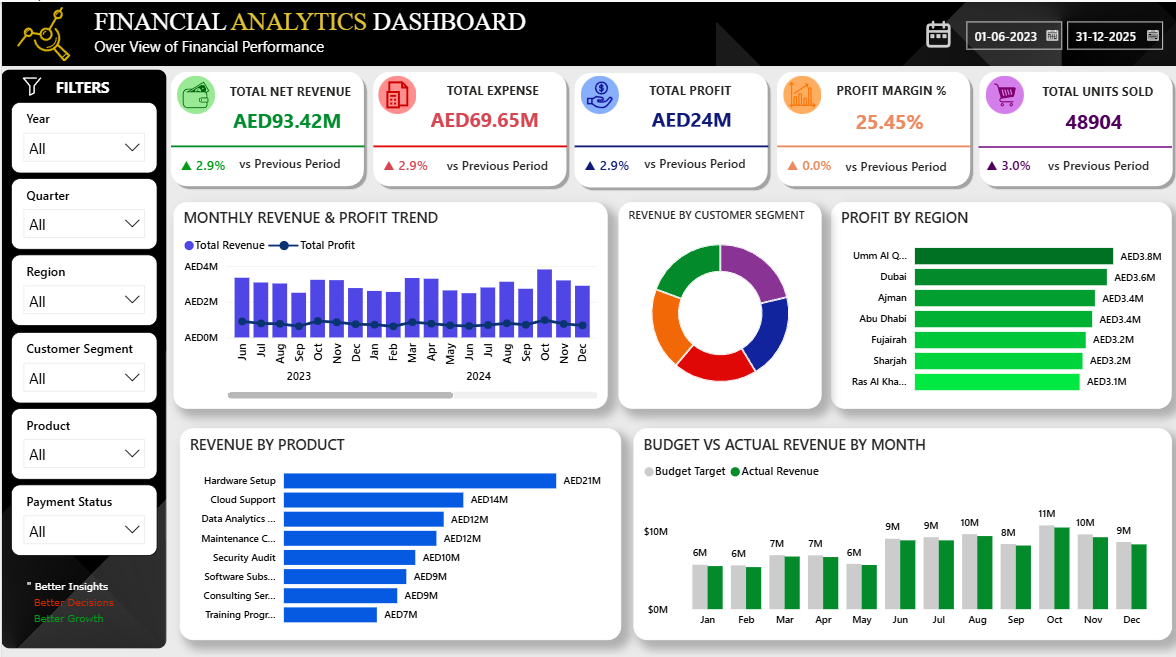

Layout of this report page (visuals, bound fields, positions):
{"tool":"powerbi","page":{"name":"Page 1","canvas":[1280,720],"ordinal":0},"visuals":[{"type":"group","id":"g1","title":"Group 1","box":[179.8,70.9,1099.3,135.7],"z":0},{"type":"shape","box":[179.8,70.9,220.1,134.5],"z":0,"group":"g1"},{"type":"shape","box":[399.9,70.9,220.1,134.5],"z":1000,"group":"g1"},{"type":"cardVisual","fields":{"Data":["Financial Data.Total Revenue"]},"box":[217.5,89.7,187.6,74.8],"z":1000},{"type":"image","box":[0,0,1280.3,70],"z":2000},{"type":"shape","box":[618.8,72.1,220.1,134.5],"z":2000,"group":"g1"},{"type":"textbox","box":[96.1,1.4,773.9,70],"z":3000},{"type":"shape","box":[839.2,70.9,220.1,134.5],"z":3000,"group":"g1"},{"type":"image","box":[11,5.5,71.4,59],"z":4000},{"type":"shape","box":[1059,70.9,220.1,134.5],"z":4000,"group":"g1"},{"type":"image","box":[189.5,80.7,46.5,41.6],"z":5000},{"type":"textbox","box":[236.5,65.2,156.3,54.4],"z":6000},{"type":"cardVisual","fields":{"Data":["Financial Data.Revenue Change Display"]},"box":[189.5,150.4,62.4,50.1],"z":7000},{"type":"textbox","box":[243.9,161.7,141.8,34.8],"z":8000},{"type":"image","box":[407.2,80.7,46.5,41.6],"z":9000},{"type":"image","box":[628.5,80.7,46.5,41.6],"z":10000},{"type":"image","box":[847.4,80.7,46.5,41.6],"z":11000},{"type":"image","box":[1068.8,80.7,46.5,41.6],"z":12000},{"type":"image","box":[0,73.4,179.8,629.8],"z":13000},{"type":"textbox","box":[456.7,63.9,156.3,54.4],"z":14000},{"type":"cardVisual","fields":{"Data":["Financial Data.Total Expense"]},"box":[432.2,88.3,187.6,75],"z":15000},{"type":"cardVisual","fields":{"Data":["Financial Data.Total Profit"]},"box":[657.8,88.3,186.2,74.8],"z":16000},{"type":"textbox","box":[671.4,63.9,156.3,54.4],"z":17000},{"type":"textbox","box":[890.2,63.9,156.3,55.7],"z":18000},{"type":"textbox","box":[1114.5,65.2,156.3,54.4],"z":19000},{"type":"cardVisual","fields":{"Data":["Financial Data.Profit Margin %"]},"box":[902.4,91.1,130.5,74.8],"z":20000},{"type":"cardVisual","fields":{"Data":["Financial Data.Total Units Sold"]},"box":[1113,91.1,150.9,75],"z":21000},{"type":"cardVisual","fields":{"Data":["Financial Data.Expense Change Display"]},"box":[409.3,150.5,62,50],"z":22000},{"type":"cardVisual","fields":{"Data":["Financial Data.Profit Change Display"]},"box":[628.5,150.4,62.4,50.1],"z":23000},{"type":"cardVisual","fields":{"Data":["Financial Data.Profit Margin Display"]},"box":[847.4,150.4,62.4,50.1],"z":24000},{"type":"cardVisual","fields":{"Data":["Financial Data.Units Change Display"]},"box":[1068.8,150.4,62.4,50.1],"z":25000},{"type":"textbox","box":[469.6,162.6,141.8,35.5],"z":26000},{"type":"textbox","box":[683.6,161.4,141.8,35.5],"z":27000},{"type":"textbox","box":[902.5,163.9,141.8,35.5],"z":28000},{"type":"textbox","box":[1122.6,162.6,141.8,35.5],"z":29000},{"type":"lineClusteredColumnComboChart","title":"MONTHLY REVENUE & PROFIT TREND","fields":{"Y2":["Financial Data.Total Profit"],"Y":["Financial Data.Total Revenue"],"Category":["Financial Data.Year","Financial Data.Month"]},"box":[188,216.8,472,225],"z":30000},{"type":"clusteredBarChart","title":"PROFIT BY REGION","fields":{"Y":["Financial Data.Total Profit"],"Category":["Financial Data.Region"]},"box":[902.9,216.8,370.5,225],"z":31000},{"type":"donutChart","title":"REVENUE BY CUSTOMER SEGMENT","fields":{"Category":["Financial Data.Customer_Segment"],"Y":["Financial Data.Total Revenue"]},"box":[671,216.8,220.9,225],"z":32000},{"type":"clusteredBarChart","title":"REVENUE BY PRODUCT","fields":{"Y":["Financial Data.Total Revenue"],"Category":["Financial Data.Product"]},"box":[194.9,463.8,480.3,230.5],"z":33000},{"type":"clusteredColumnChart","title":"BUDGET VS ACTUAL REVENUE BY MONTH","fields":{"Category":["Financial Data.Month"],"Y":["Sum(Financial Data.Budget_Target)","Financial Data.Total Revenue"]},"box":[687.5,463.8,585.9,230.5],"z":34000},{"type":"slicer","fields":{"Values":["Financial Data.Year"]},"box":[11,108.4,159.2,77.4],"z":35000},{"type":"slicer","fields":{"Values":["Financial Data.Quarter"]},"box":[11,191.7,159.2,77.4],"z":36000},{"type":"slicer","fields":{"Values":["Financial Data.Region"]},"box":[11,275,159.2,77.4],"z":37000},{"type":"slicer","fields":{"Values":["Financial Data.Customer_Segment"]},"box":[11,358.3,159.2,77.4],"z":38000},{"type":"slicer","fields":{"Values":["Financial Data.Product"]},"box":[11,441.7,159.2,77.4],"z":39000},{"type":"slicer","fields":{"Values":["Financial Data.Payment_Status"]},"box":[11,525,159.2,77.4],"z":40000},{"type":"image","box":[11,78.2,45,25],"z":41000},{"type":"textbox","box":[43.9,75.5,90.6,32.9],"z":42000},{"type":"slicer","title":"  Date","fields":{"Values":["Financial Data.Date"]},"box":[1037,10.9,243.3,50.3],"z":43000},{"type":"image","box":[1001.7,15,35.3,39.4],"z":44000},{"type":"textbox","box":[23.1,619.8,119.6,74.8],"z":45000},{"type":"shape","box":[184.8,142.7,210.7,28.5],"z":46000},{"type":"shape","box":[405,142.7,210.7,28.5],"z":47000},{"type":"shape","box":[623.8,142.7,210.7,28.5],"z":48000},{"type":"shape","box":[844,142.7,210.7,28.5],"z":49000},{"type":"shape","box":[1062.8,142.7,210.7,29.9],"z":50000}]}

Visuals, with their boxes in screenshot pixels (x1, y1, x2, y2), scaled from the page's 1280x720 canvas onto the 1176x657 screenshot:
"Group 1" group: (left=165, top=65, right=1175, bottom=189)
shape: (left=165, top=65, right=367, bottom=187)
shape: (left=367, top=65, right=570, bottom=187)
cardVisual - Financial Data.Total Revenue: (left=200, top=82, right=372, bottom=150)
image: (left=0, top=0, right=1175, bottom=64)
shape: (left=569, top=66, right=771, bottom=189)
textbox: (left=88, top=1, right=799, bottom=65)
shape: (left=771, top=65, right=973, bottom=187)
image: (left=10, top=5, right=76, bottom=59)
shape: (left=973, top=65, right=1175, bottom=187)
image: (left=174, top=74, right=217, bottom=112)
textbox: (left=217, top=59, right=361, bottom=109)
cardVisual - Financial Data.Revenue Change Display: (left=174, top=137, right=231, bottom=183)
textbox: (left=224, top=148, right=354, bottom=179)
image: (left=374, top=74, right=417, bottom=112)
image: (left=577, top=74, right=620, bottom=112)
image: (left=779, top=74, right=821, bottom=112)
image: (left=982, top=74, right=1025, bottom=112)
image: (left=0, top=67, right=165, bottom=642)
textbox: (left=420, top=58, right=563, bottom=108)
cardVisual - Financial Data.Total Expense: (left=397, top=81, right=569, bottom=149)
cardVisual - Financial Data.Total Profit: (left=604, top=81, right=775, bottom=149)
textbox: (left=617, top=58, right=760, bottom=108)
textbox: (left=818, top=58, right=961, bottom=109)
textbox: (left=1024, top=59, right=1168, bottom=109)
cardVisual - Financial Data.Profit Margin %: (left=829, top=83, right=949, bottom=151)
cardVisual - Financial Data.Total Units Sold: (left=1023, top=83, right=1161, bottom=152)
cardVisual - Financial Data.Expense Change Display: (left=376, top=137, right=433, bottom=183)
cardVisual - Financial Data.Profit Change Display: (left=577, top=137, right=635, bottom=183)
cardVisual - Financial Data.Profit Margin Display: (left=779, top=137, right=836, bottom=183)
cardVisual - Financial Data.Units Change Display: (left=982, top=137, right=1039, bottom=183)
textbox: (left=431, top=148, right=562, bottom=181)
textbox: (left=628, top=147, right=758, bottom=180)
textbox: (left=829, top=150, right=959, bottom=182)
textbox: (left=1031, top=148, right=1162, bottom=181)
"MONTHLY REVENUE & PROFIT TREND" lineClusteredColumnComboChart: (left=173, top=198, right=606, bottom=403)
"PROFIT BY REGION" clusteredBarChart: (left=830, top=198, right=1170, bottom=403)
"REVENUE BY CUSTOMER SEGMENT" donutChart: (left=616, top=198, right=819, bottom=403)
"REVENUE BY PRODUCT" clusteredBarChart: (left=179, top=423, right=620, bottom=634)
"BUDGET VS ACTUAL REVENUE BY MONTH" clusteredColumnChart: (left=632, top=423, right=1170, bottom=634)
slicer - Financial Data.Year: (left=10, top=99, right=156, bottom=170)
slicer - Financial Data.Quarter: (left=10, top=175, right=156, bottom=246)
slicer - Financial Data.Region: (left=10, top=251, right=156, bottom=322)
slicer - Financial Data.Customer_Segment: (left=10, top=327, right=156, bottom=398)
slicer - Financial Data.Product: (left=10, top=403, right=156, bottom=474)
slicer - Financial Data.Payment_Status: (left=10, top=479, right=156, bottom=550)
image: (left=10, top=71, right=51, bottom=94)
textbox: (left=40, top=69, right=124, bottom=99)
"  Date" slicer: (left=953, top=10, right=1175, bottom=56)
image: (left=920, top=14, right=953, bottom=50)
textbox: (left=21, top=566, right=131, bottom=634)
shape: (left=170, top=130, right=363, bottom=156)
shape: (left=372, top=130, right=566, bottom=156)
shape: (left=573, top=130, right=767, bottom=156)
shape: (left=775, top=130, right=969, bottom=156)
shape: (left=976, top=130, right=1170, bottom=157)
